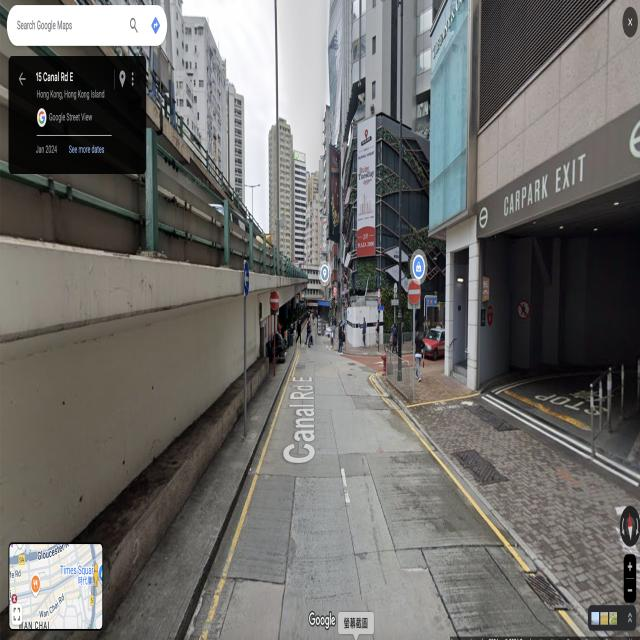Direction-Sign: (427, 297, 437, 306)
Order-Sign: (409, 281, 420, 304), (244, 262, 249, 296), (270, 292, 279, 309)
Street-Direction-Sign: (392, 299, 398, 306)
Warning-Sign: (344, 298, 348, 307)
